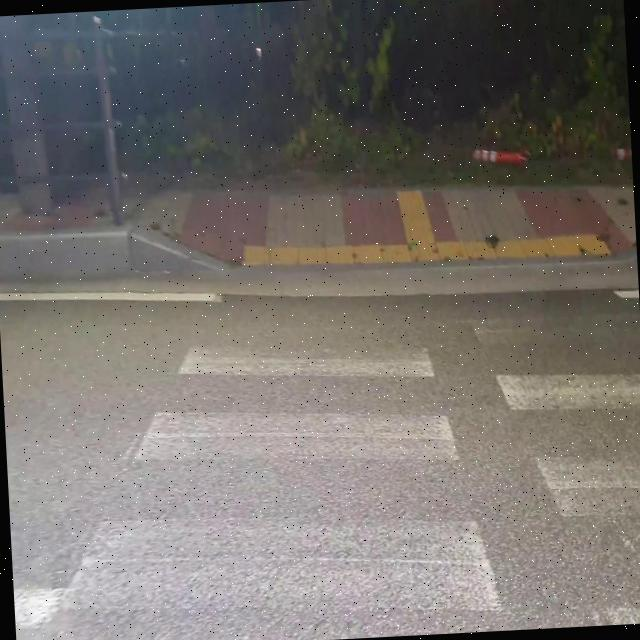crosswalk: (42, 305, 640, 640)
